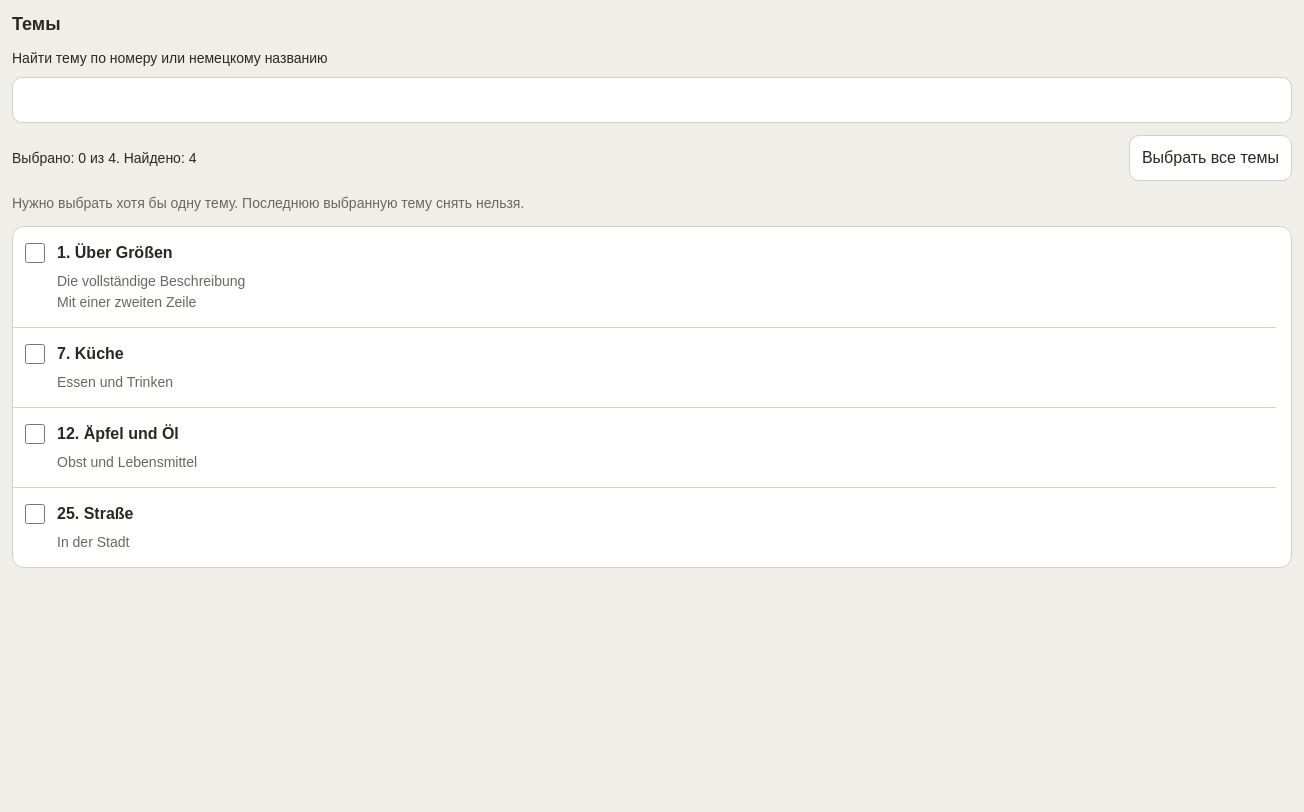
topic selection › allows selecting the first topic, then changing the nonempty selection
Click the checkbox labelled "1. Über Größen". click: (35, 253)
box: [25, 243, 45, 263]
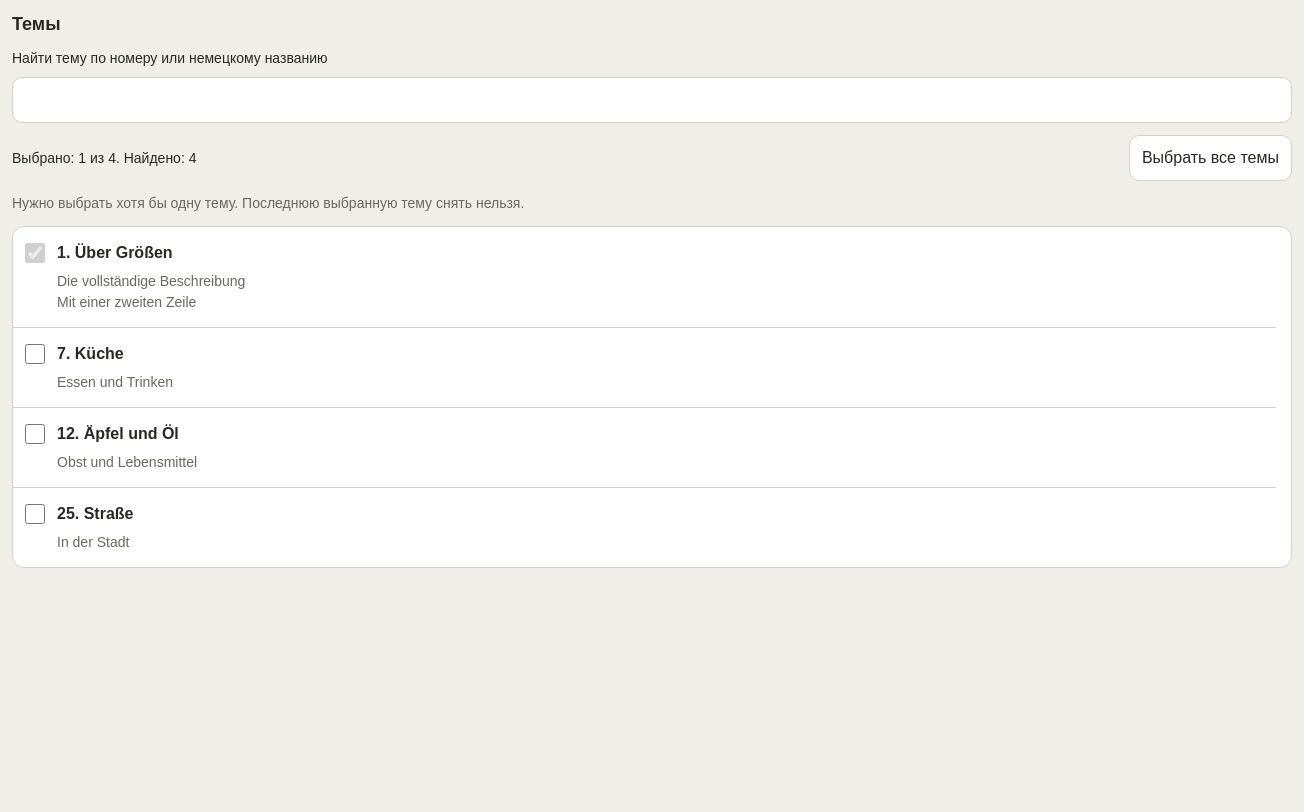
Expected: the checkbox labelled "1. Über Größen" is disabled, [25, 243, 45, 263]
Click the checkbox labelled "7. Küche". click: (35, 354)
box: [25, 344, 45, 364]
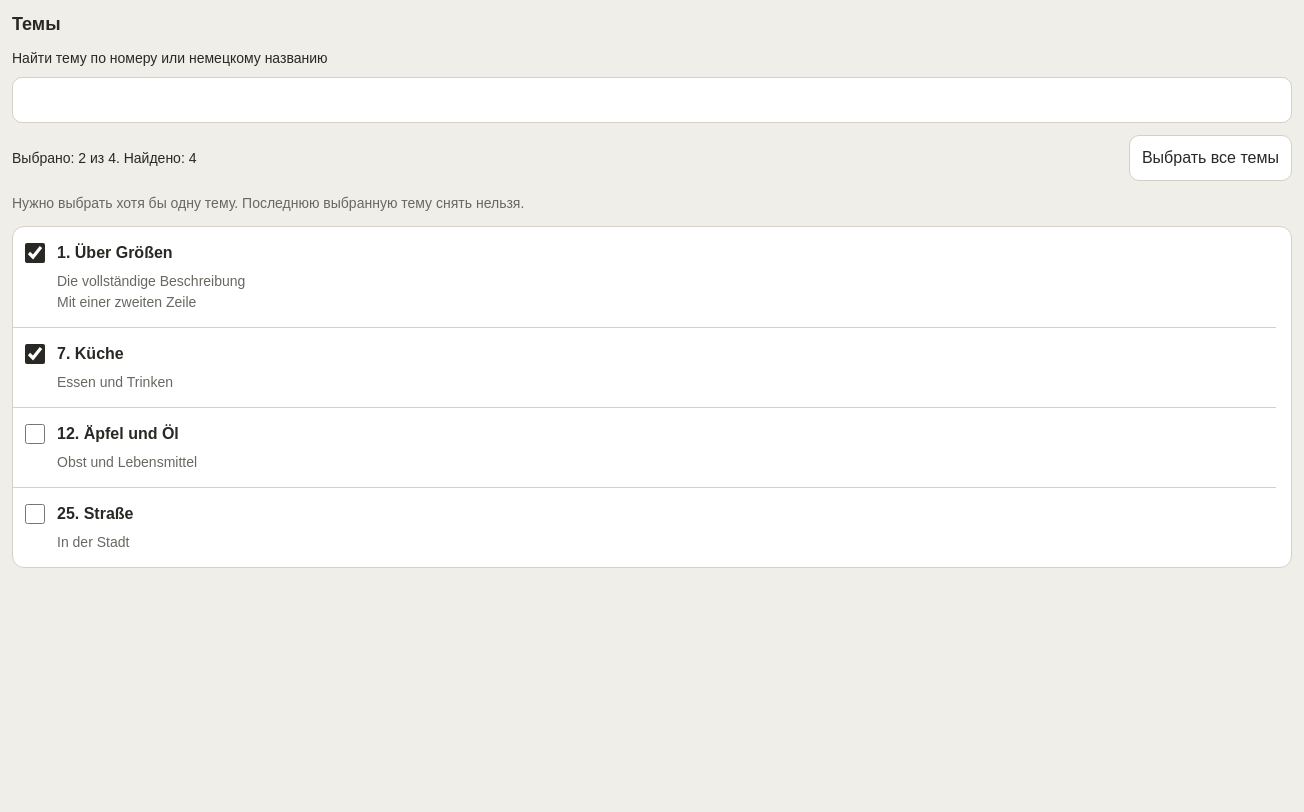
Expected: the checkbox labelled "1. Über Größen" is enabled
Click the checkbox labelled "1. Über Größen". click: (35, 253)
box: [25, 243, 45, 263]
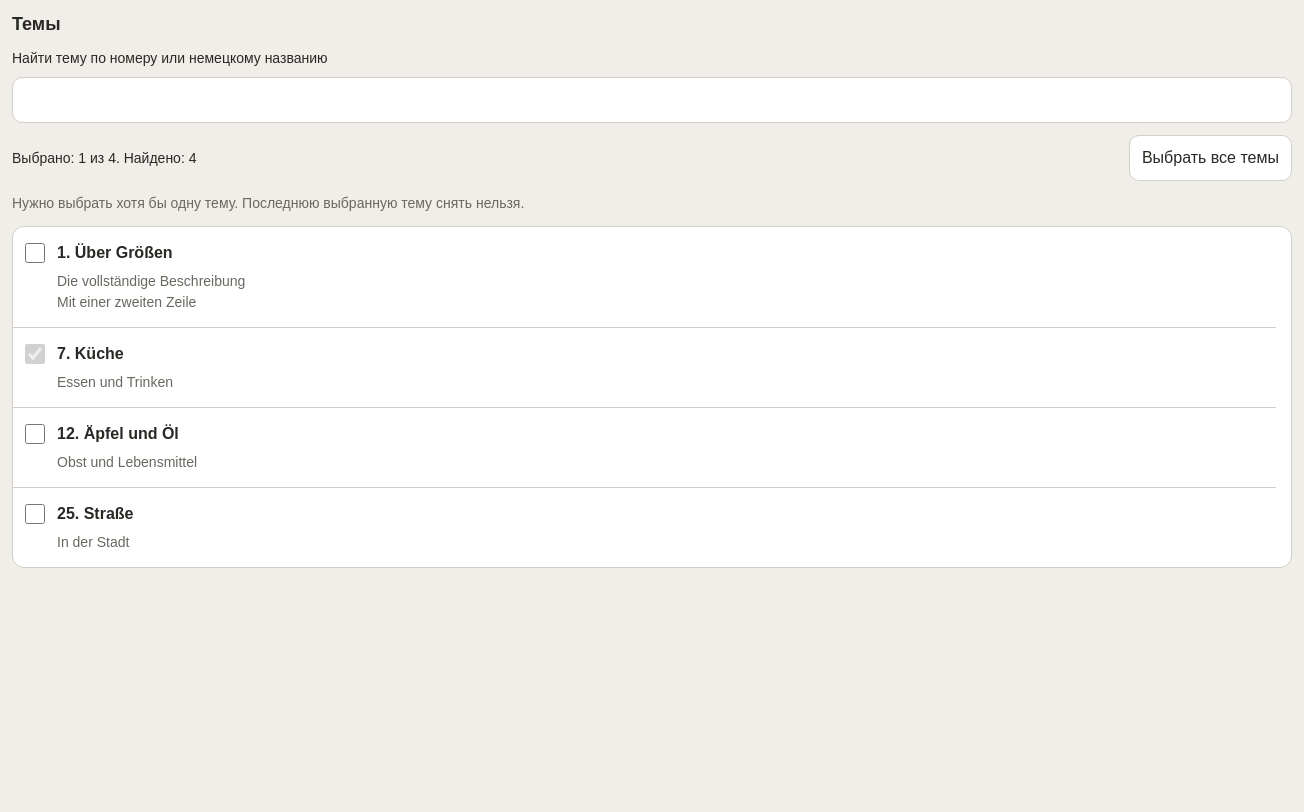
Expected: the checkbox labelled "7. Küche" is disabled, [25, 344, 45, 364]
